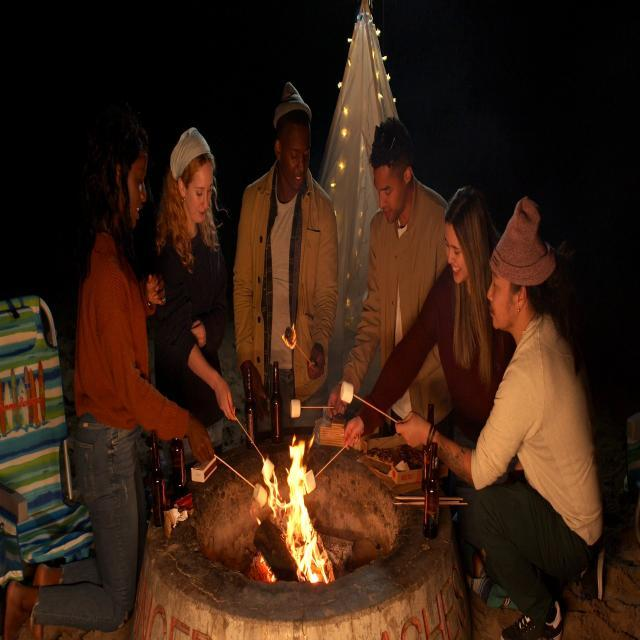Fire: (276, 438, 336, 590)
